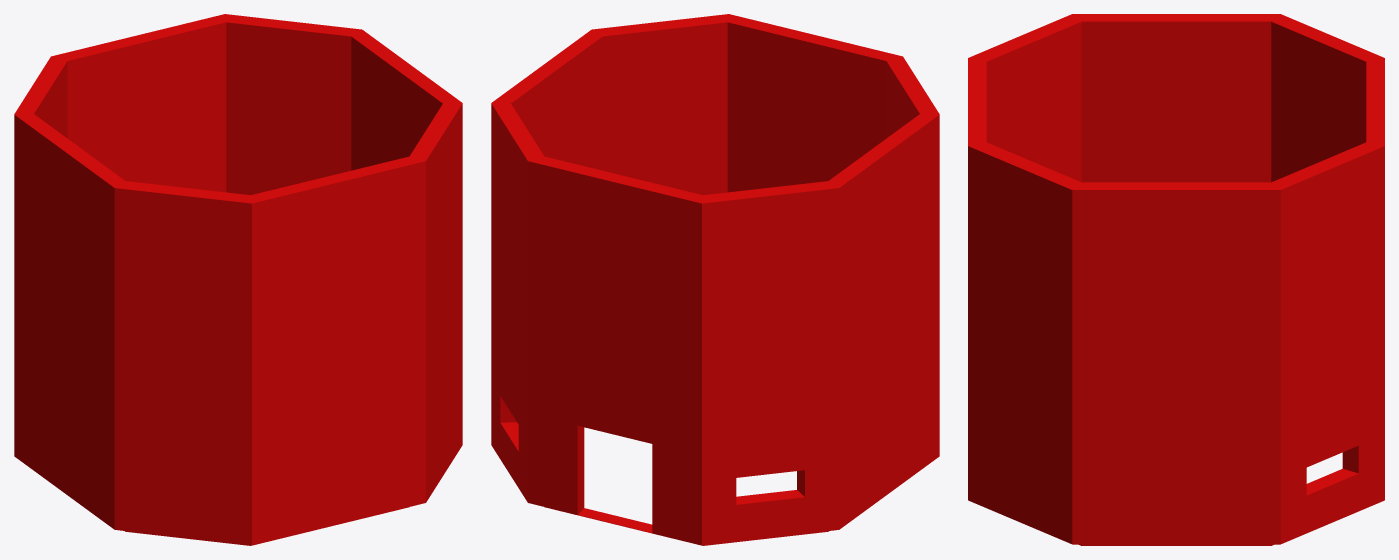
File: Entrance_Walls.fbx
The picture shows the model from 3 angles, left to right: view 1: azimuth 30°, elevation 25°; view 2: azimuth 150°, elevation 25°; view 3: azimuth 270°, elevation 25°; orthographic projection. The views are drawn at different scales.
Parts seen in each view (by area): view 1: Entrance_walls; view 2: Entrance_walls; view 3: Entrance_walls.
Boxes of the visible parts, box(x1,y1,x2,y2) form: Entrance_walls: box(14, 14, 462, 545); Entrance_walls: box(491, 14, 939, 545); Entrance_walls: box(968, 14, 1384, 545).
Size of the model in its own units: 0.0843 by 0.0812 by 0.0843.
